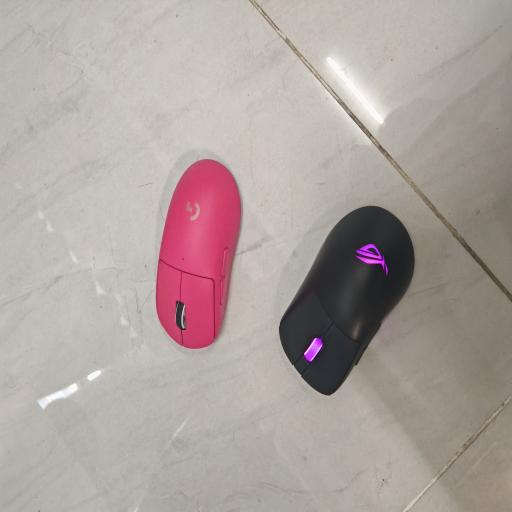mouse: (280, 206, 414, 394), (156, 160, 241, 348)
